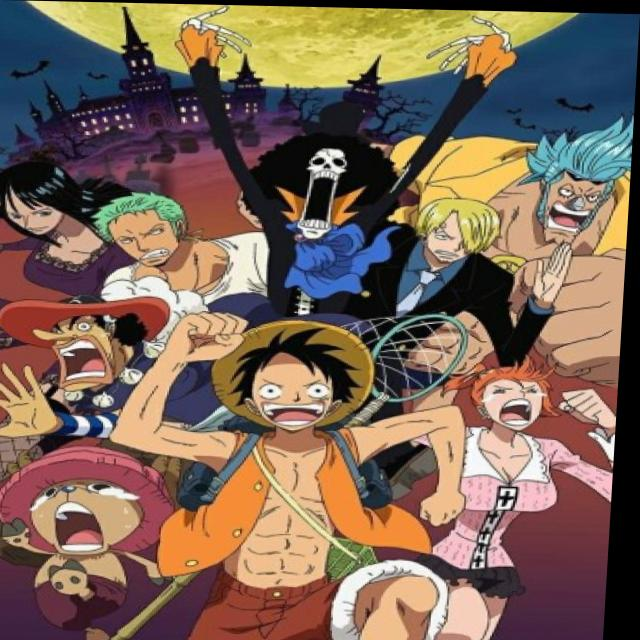Blook: (250, 121, 394, 248)
Chyopa: (0, 439, 182, 640)
Franky: (516, 112, 635, 248)
Luffy: (192, 304, 395, 440)
Nami: (456, 345, 579, 445)
NicoRobin: (0, 150, 93, 241)
Sangdi: (403, 191, 515, 272)
Usopp: (3, 280, 183, 393)
Zoro: (90, 190, 201, 275)
